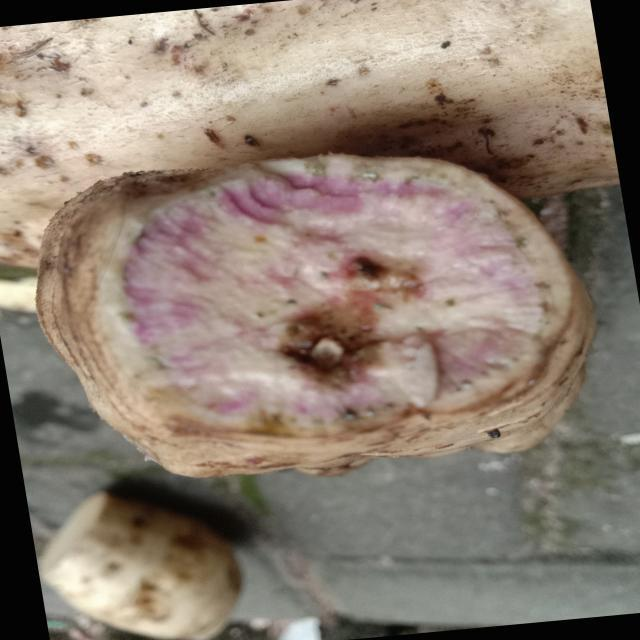Sick Sweet Potato_Tuber Rot: (68, 155, 593, 476)
